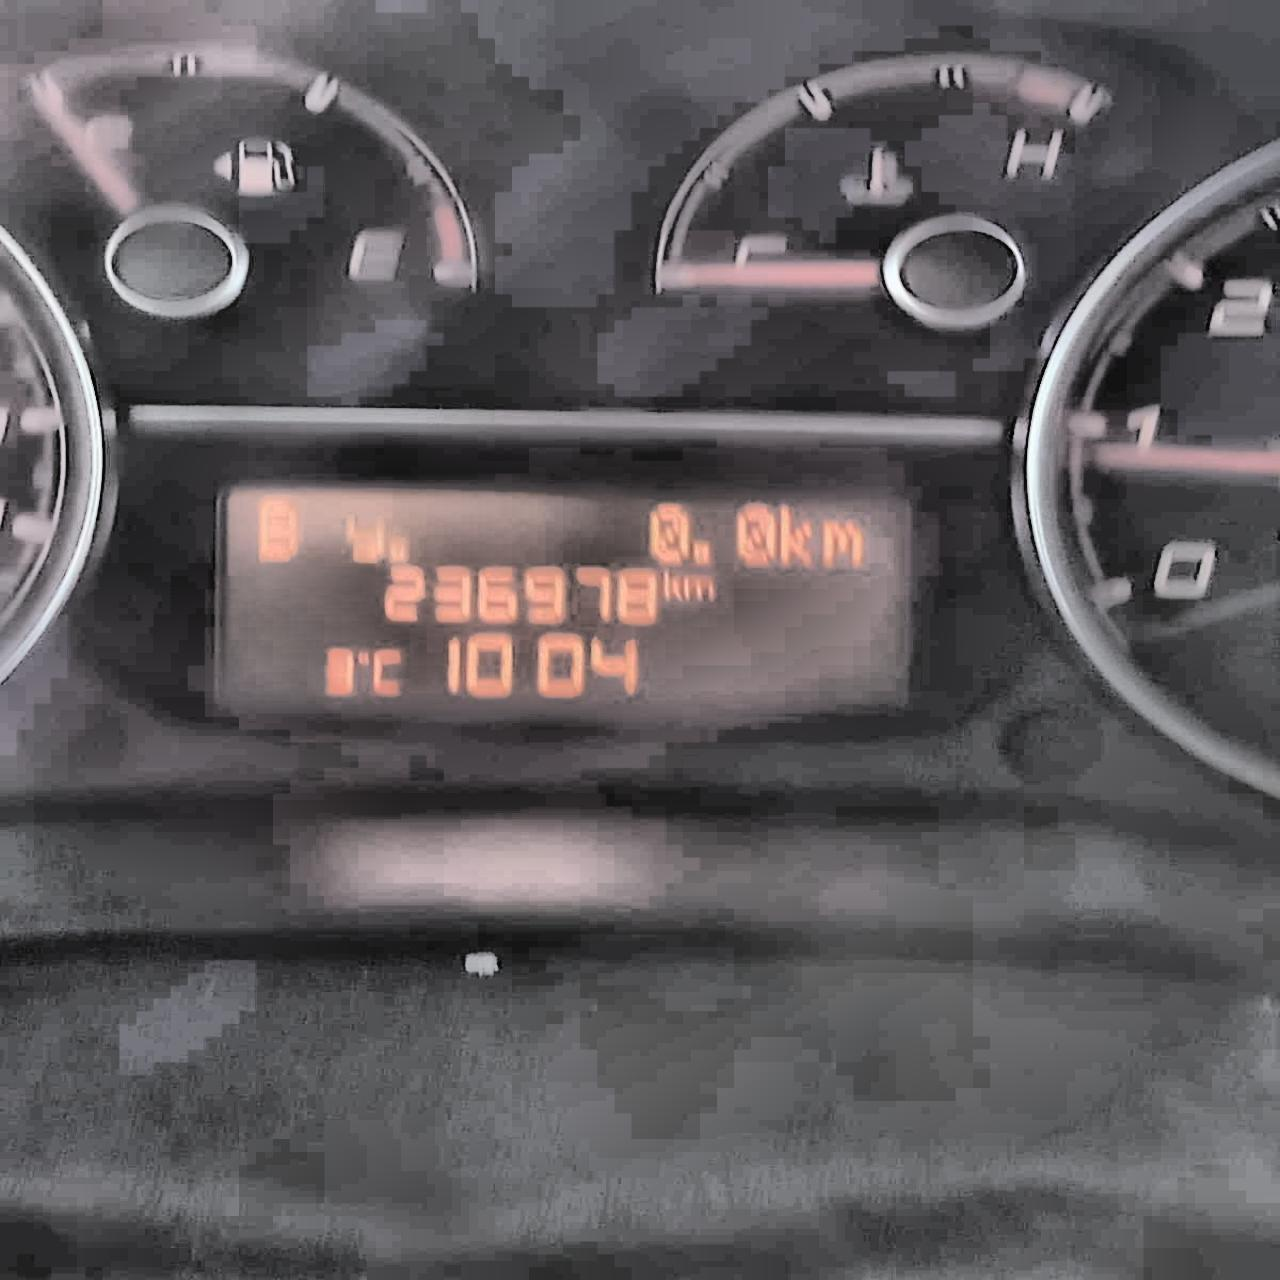-: (387, 537, 408, 563), (694, 538, 712, 565)
0: (463, 632, 515, 697), (533, 633, 584, 697), (733, 504, 777, 567), (647, 503, 692, 565)
1: (444, 635, 463, 695)
2: (383, 564, 425, 621)
3: (433, 565, 472, 622), (322, 647, 355, 694)
4: (590, 636, 636, 695)
6: (476, 564, 518, 622)
7: (573, 567, 612, 620)
8: (615, 568, 658, 624)
9: (524, 567, 564, 624)
X: (256, 492, 301, 558), (818, 518, 864, 567), (777, 504, 813, 565), (345, 511, 387, 563), (369, 646, 404, 696), (682, 573, 715, 601), (661, 570, 682, 601)
odometer: (206, 477, 927, 731)
